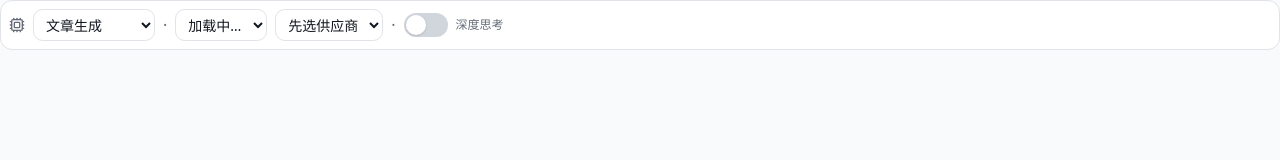
Test case: StudioModelSelector reasoning › 开启深度思考后出现推理强度下拉，默认 medium
Expected: the dropdown with test id "provider-select" is shown, x1=175 y1=9 x2=267 y2=41
Click the switch with test id "reasoning-toggle".
click(426, 25)  # box x1=404 y1=13 x2=448 y2=37
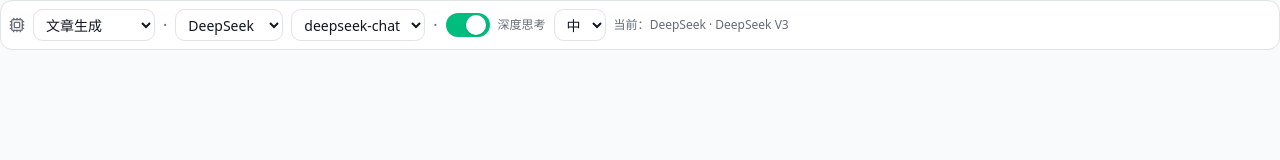
Expected: the dropdown named "推理强度" shows "中", x1=554 y1=9 x2=606 y2=41
